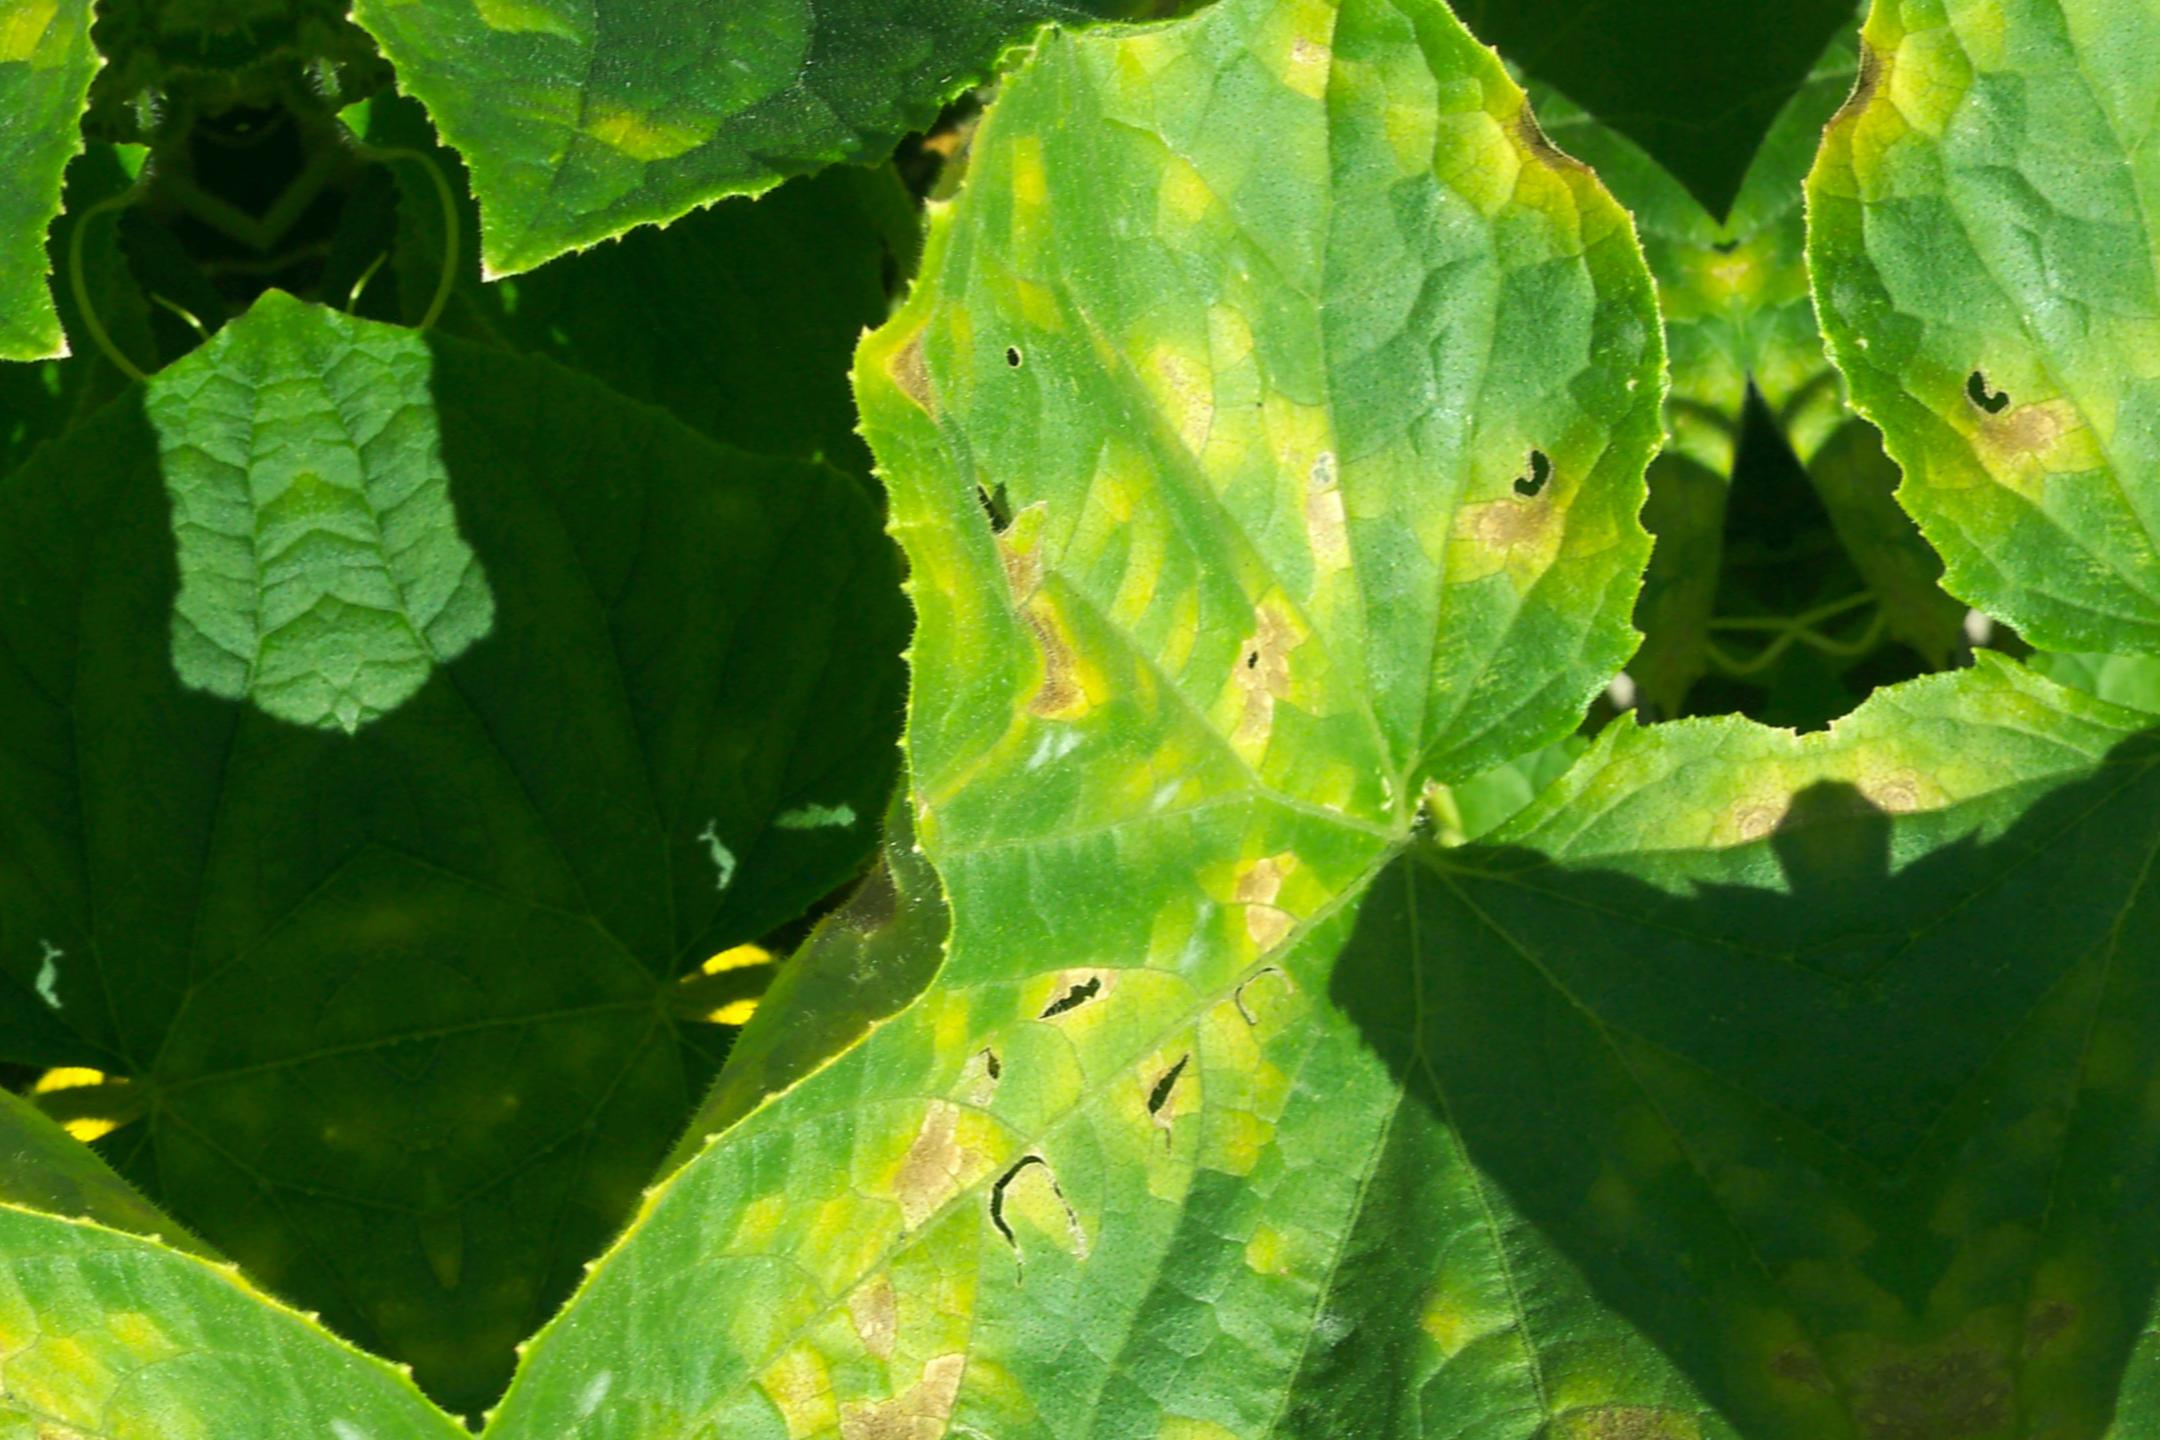Tomato mold leaf: (233, 0, 1921, 1440)
